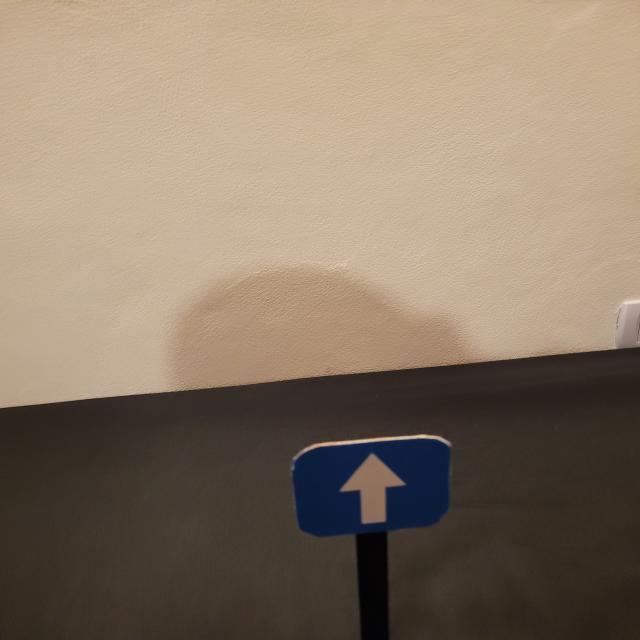one_way: (291, 435, 452, 538)
